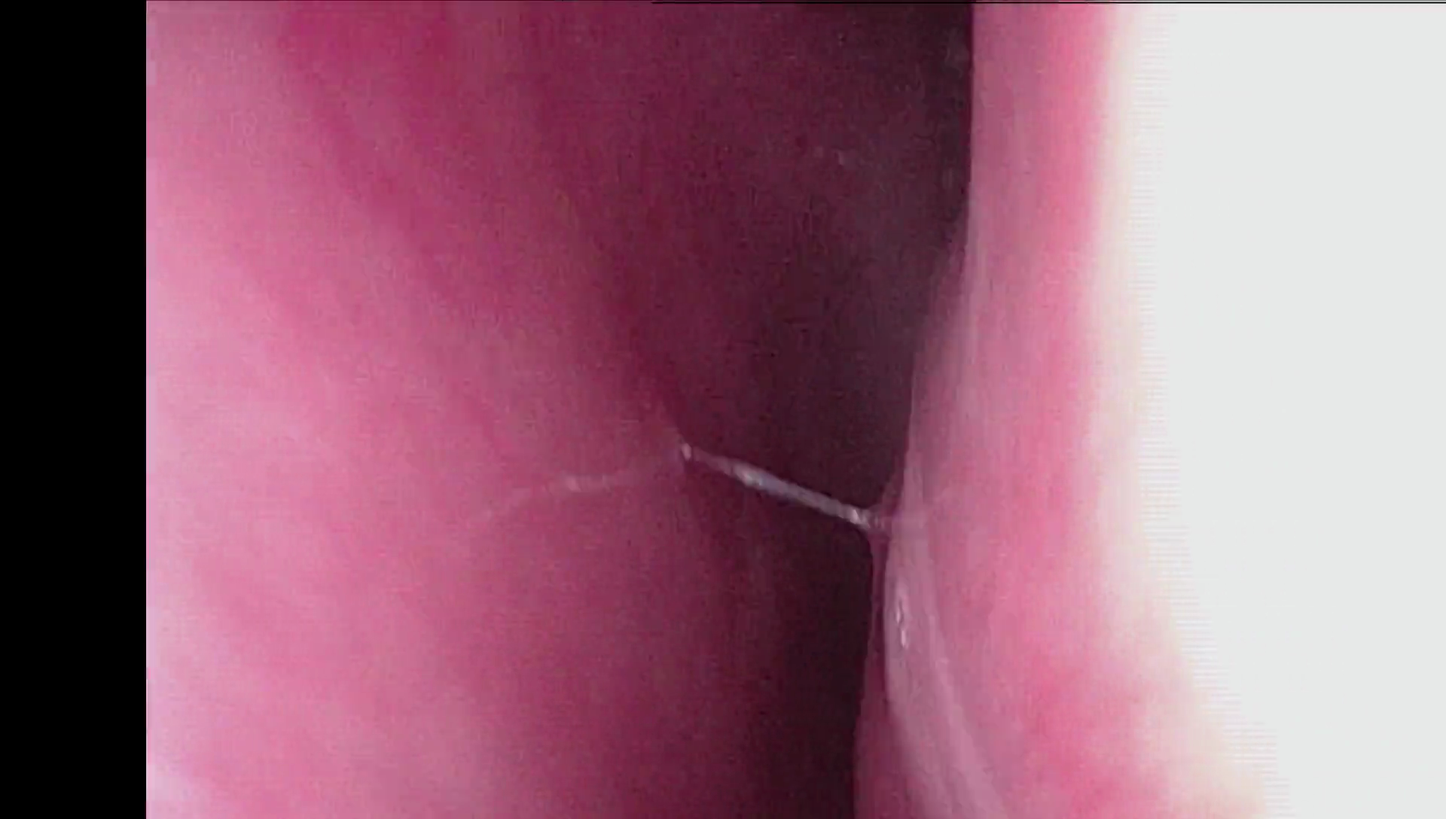close_wall: (1031, 7, 1446, 819)
next: (751, 498, 918, 819)
